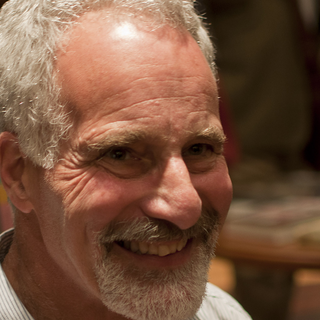eye: (88, 140, 150, 175), (175, 139, 219, 165)
